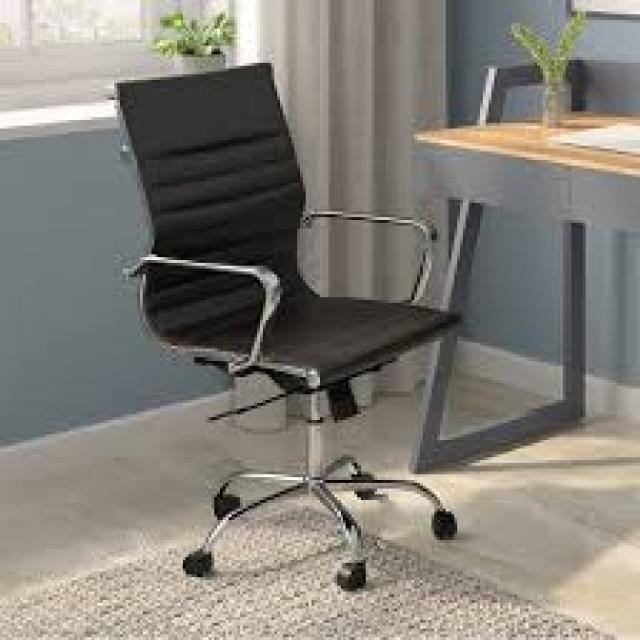chair: (39, 47, 522, 640)
